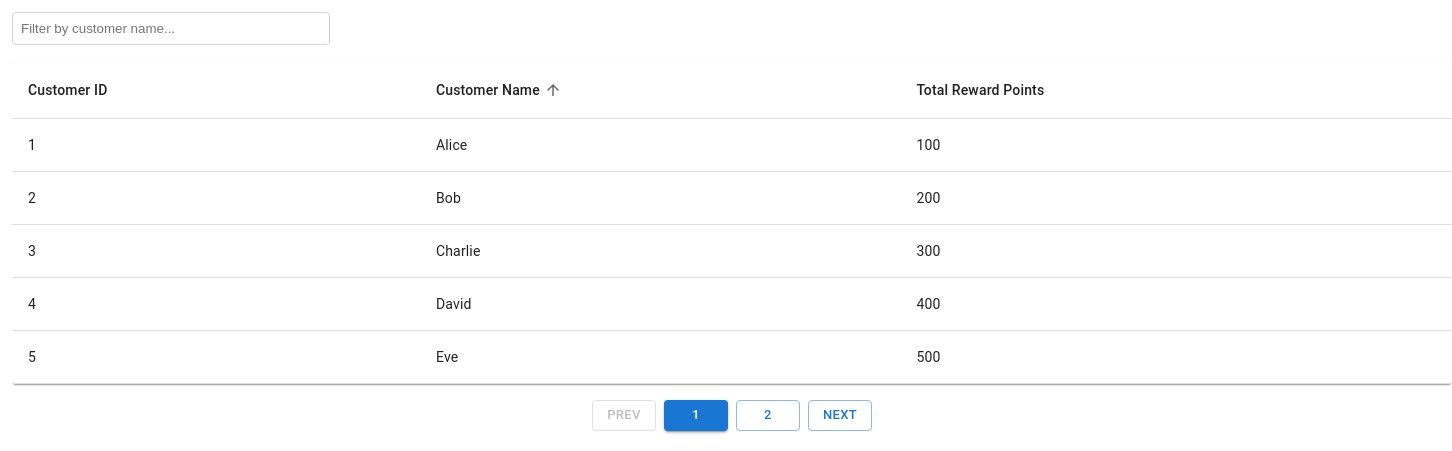
Test case: TotalRewardsTable › navigates to second page using pagination
Click the button "2" at (768, 416), box [736,400,800,431]
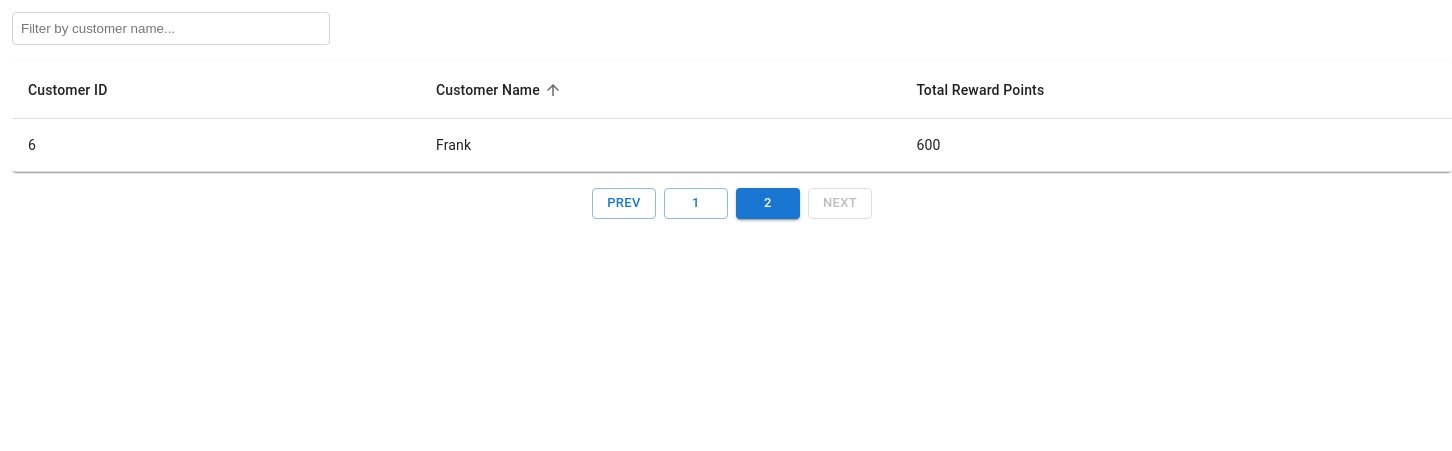
Result: the text "Frank" is shown at [420,119,900,172]
Result: the number of rows is 2 at [12,61,1451,119]; [12,119,1451,172]
